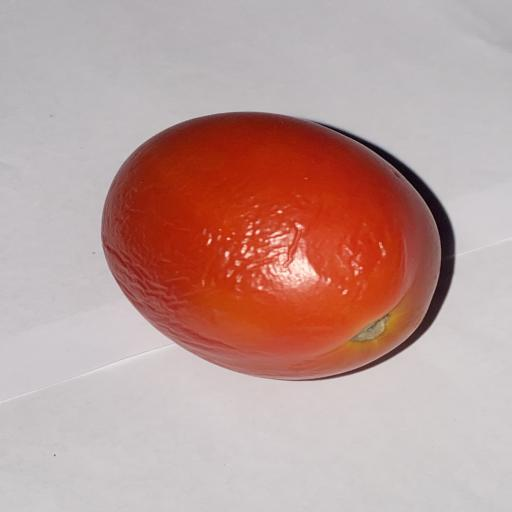spoiled: (102, 113, 440, 379)
